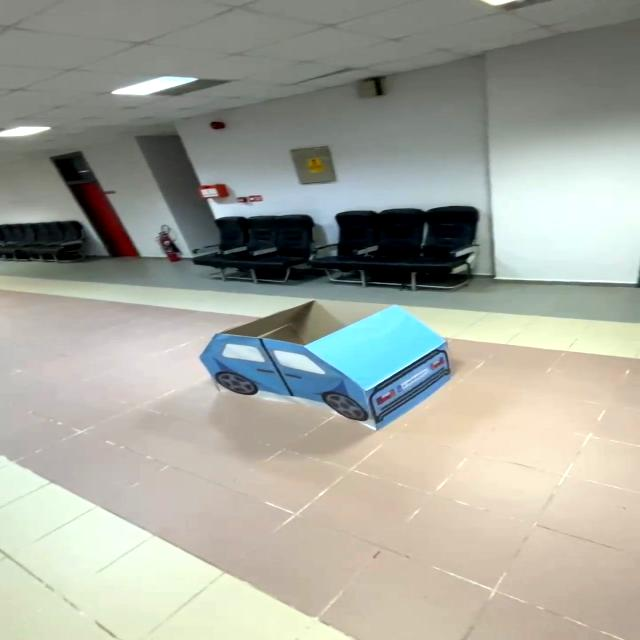blue_car: (171, 284, 482, 447)
